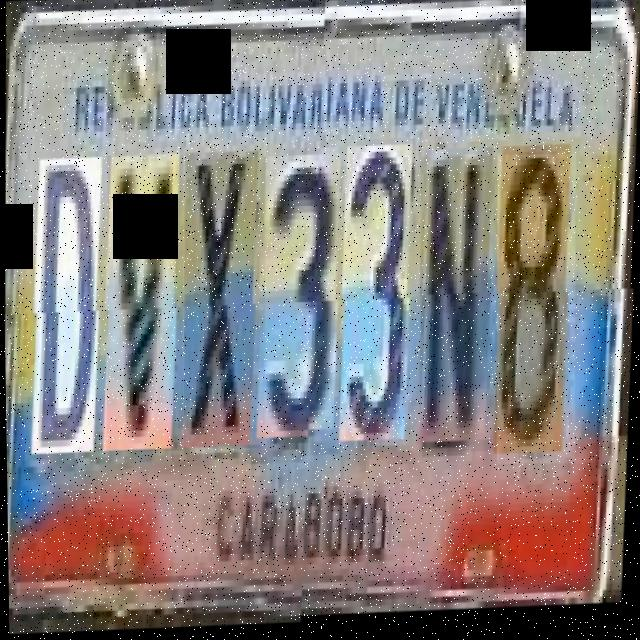3: (256, 156, 348, 442), (336, 154, 419, 453)
8: (491, 156, 578, 468)
D: (29, 157, 109, 455)
N: (414, 158, 500, 457)
V: (101, 154, 186, 453)
X: (179, 151, 267, 450)
